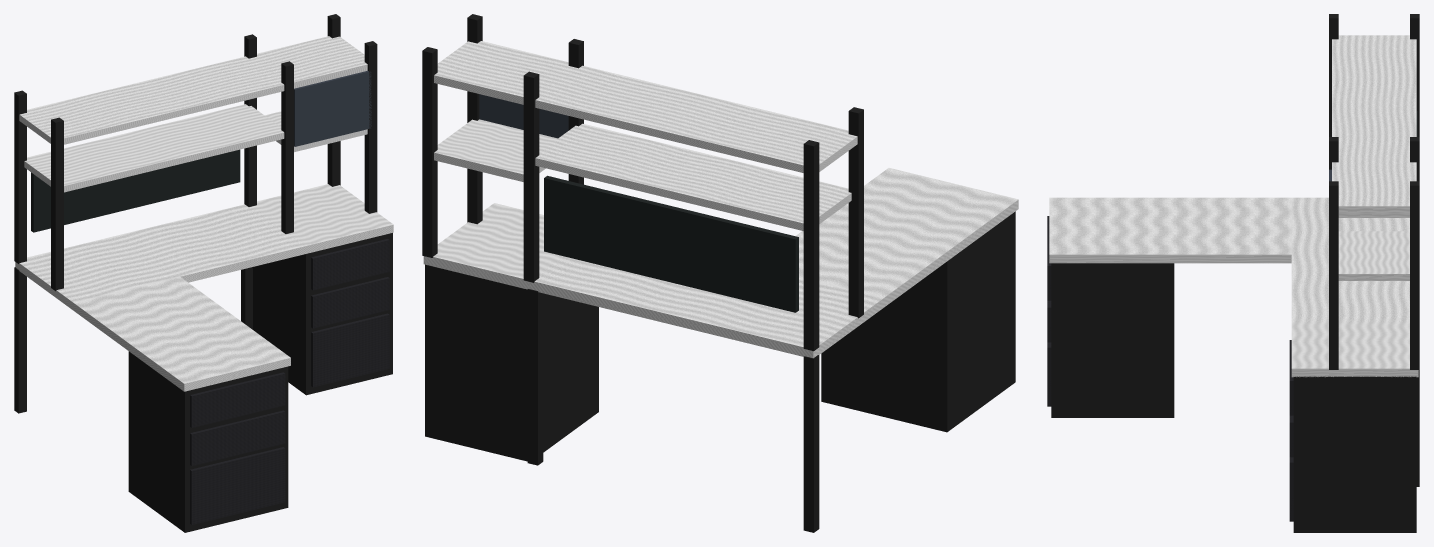
3 renders of one model, left to right at view 1: azimuth 30°, elevation 25°; view 2: azimuth 150°, elevation 25°; view 3: azimuth 270°, elevation 25°, orthographic. The views are drawn at different scales.
Parts seen in each view (by area): view 1: 1 back_desktop, 22 hutch_top_shelf, 2 left_desktop, 3 left_drawer_unit_frame, 21 hutch_middle_shelf, 7 right_drawer_unit_frame, 20 pegboard, 6 left_drawer_3, 11 right_cabinet_top, 24 display_cabinet_door, 10 right_drawer_3, 4 left_drawer_1 (+12 smaller); view 2: 3 left_drawer_unit_frame, 7 right_drawer_unit_frame, 22 hutch_top_shelf, 20 pegboard, 2 left_desktop, 21 hutch_middle_shelf, 1 back_desktop, 11 right_cabinet_top, 23 display_cabinet_bottom, 15 hutch_left_post_back, 17 hutch_mid_post_back, 19 hutch_right_post_back (+6 smaller); view 3: 7 right_drawer_unit_frame, 3 left_drawer_unit_frame, 2 left_desktop, 22 hutch_top_shelf, 1 back_desktop, 11 right_cabinet_top, 23 display_cabinet_bottom, 18 hutch_right_post_front, 19 hutch_right_post_back, 15 hutch_left_post_back, 14 hutch_left_post_front, 13 center_back_leg_right.
Boxes of the visible parts, x1,y1,x2,y2 form: 1 back_desktop: (15,204,306,310); 22 hutch_top_shelf: (19,36,367,144); 2 left_desktop: (73,277,290,391); 3 left_drawer_unit_frame: (128,351,288,532); 21 hutch_middle_shelf: (24,104,284,192); 7 right_drawer_unit_frame: (253,233,392,395); 20 pegboard: (31,149,240,232); 6 left_drawer_3: (190,447,285,524); 11 right_cabinet_top: (253,184,393,253); 24 display_cabinet_door: (294,70,371,146); 10 right_drawer_3: (311,313,389,387); 4 left_drawer_1: (190,372,285,427); 3 left_drawer_unit_frame: (821,211,1015,432); 7 right_drawer_unit_frame: (425,264,598,461); 22 hutch_top_shelf: (434,41,857,172); 20 pegboard: (544,175,798,312); 2 left_desktop: (795,168,1018,307); 21 hutch_middle_shelf: (535,123,851,230); 1 back_desktop: (529,256,883,358); 11 right_cabinet_top: (423,203,561,289); 23 display_cabinet_bottom: (434,119,557,181); 15 hutch_left_post_back: (803,140,819,351); 17 hutch_mid_post_back: (523,71,539,282); 19 hutch_right_post_back: (422,47,437,257); 7 right_drawer_unit_frame: (1293,376,1416,532); 3 left_drawer_unit_frame: (1051,263,1174,417); 2 left_desktop: (1049,197,1291,263); 22 hutch_top_shelf: (1332,35,1416,213); 1 back_desktop: (1291,197,1409,322); 11 right_cabinet_top: (1291,322,1418,377); 23 display_cabinet_bottom: (1338,231,1409,280); 18 hutch_right_post_front: (1329,181,1338,369); 19 hutch_right_post_back: (1410,181,1419,369); 15 hutch_left_post_back: (1410,14,1419,136); 14 hutch_left_post_front: (1329,14,1338,136); 13 center_back_leg_right: (1416,370,1419,486).
Bounding box in the file's own units: 1.06 × 1 × 0.97.
Materials: 5 (2 with a texture image).
